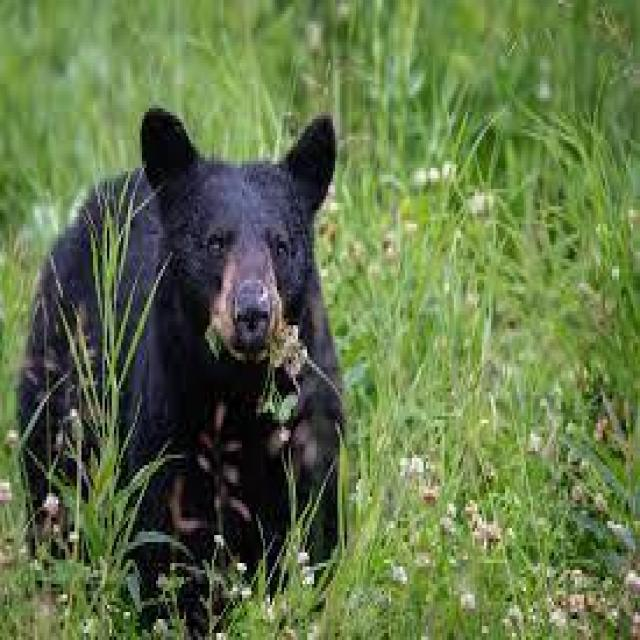Bear: (16, 108, 347, 633)
